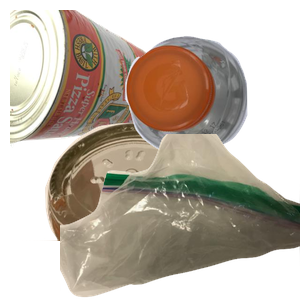glass: (22, 120, 233, 300)
metal: (10, 10, 159, 152)
plastic: (123, 33, 300, 181)
trash: (60, 134, 300, 300)
